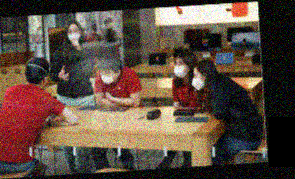with_mask: (190, 71, 204, 91), (100, 68, 117, 84), (173, 60, 187, 77), (66, 26, 81, 41)
